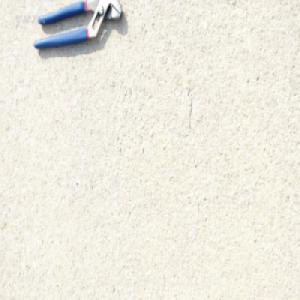Pliers: (31, 0, 123, 50)
